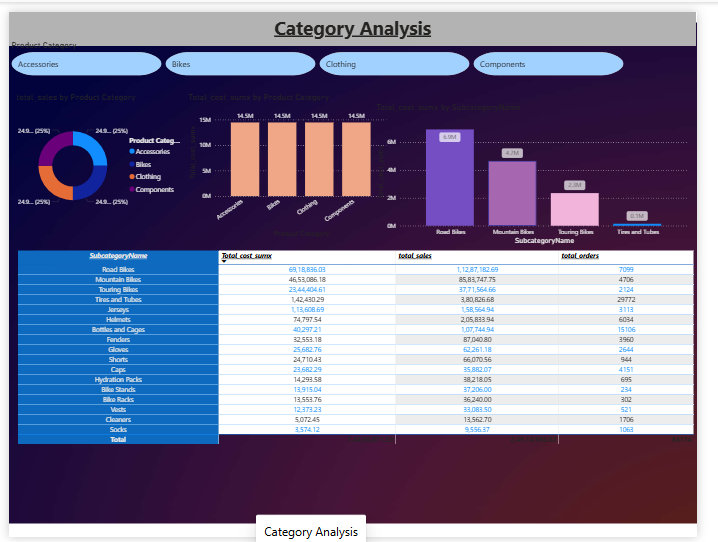

What the dashboard file says about the page in this screenshot:
{"tool":"powerbi","page":{"name":"Category Analysis","canvas":[1375,1050],"ordinal":3},"visuals":[{"type":"textbox","box":[0,0,1374.4,67.8],"z":0},{"type":"advancedSlicerVisual","fields":{"Values":["Product Category Sales (Unpivot Demo) (2).Product Category"]},"box":[0,56.5,1234.1,76.5],"z":1000},{"type":"donutChart","fields":{"Category":["Product Category Sales (Unpivot Demo) (2).Product Category"],"Y":["Append1 Sales Data.total_sales"]},"box":[9.5,160.3,344.4,276.2],"z":2000},{"type":"columnChart","fields":{"Category":["Product Category Sales (Unpivot Demo) (2).Product Category"],"Y":["Product Lookup.Total_cost_sumx"]},"box":[354,160.3,406.3,295.2],"z":3000},{"type":"lineClusteredColumnComboChart","fields":{"Category":["Product Subcategories Lookup.SubcategoryName"],"Y":["Product Lookup.Total_cost_sumx"]},"box":[730.2,181,633.3,290.5],"z":4000},{"type":"tableEx","fields":{"Values":["Product Subcategories Lookup.SubcategoryName","Product Lookup.Total_cost_sumx","Append1 Sales Data.total_sales","Append1 Sales Data.total_orders"]},"box":[12.2,471.1,1363.3,405.6],"z":5000}]}

Visuals, with their boxes on the page's 1375x1050 design canvas (x1, y1, x2, y2). These are canvas units, not pixel positions in the 718x542 screenshot, which may show the page scaled, cropped or inside an application window:
textbox: <box>0,0,1374,68</box>
advancedSlicerVisual - Product Category Sales (Unpivot Demo) (2).Product Category: <box>0,56,1234,133</box>
donutChart - Product Category Sales (Unpivot Demo) (2).Product Category x Append1 Sales Data.total_sales: <box>10,160,354,436</box>
columnChart - Product Category Sales (Unpivot Demo) (2).Product Category x Product Lookup.Total_cost_sumx: <box>354,160,760,456</box>
lineClusteredColumnComboChart - Product Subcategories Lookup.SubcategoryName x Product Lookup.Total_cost_sumx: <box>730,181,1364,472</box>
tableEx - Product Subcategories Lookup.SubcategoryName x Product Lookup.Total_cost_sumx: <box>12,471,1376,877</box>
